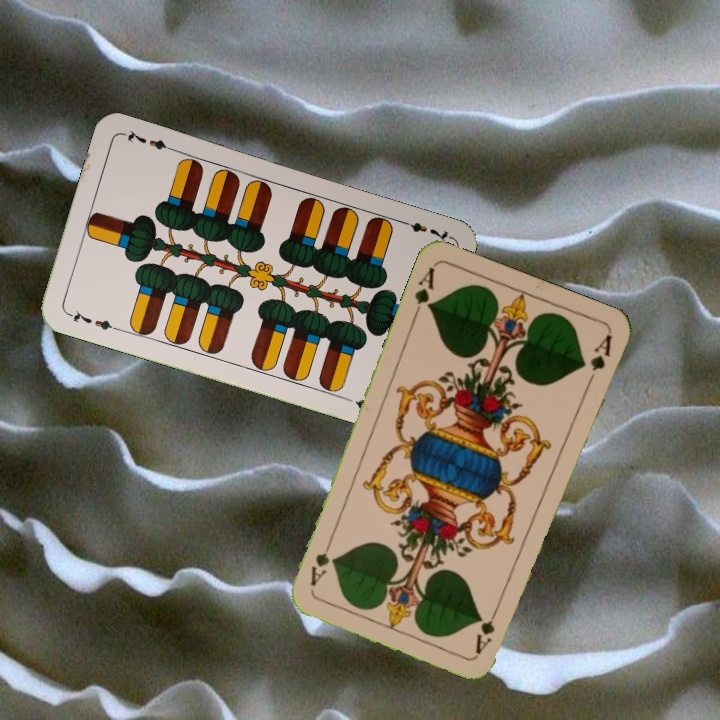E7: (395, 215, 452, 245), (63, 307, 121, 334)
GA: (471, 599, 503, 656), (409, 262, 438, 320)
